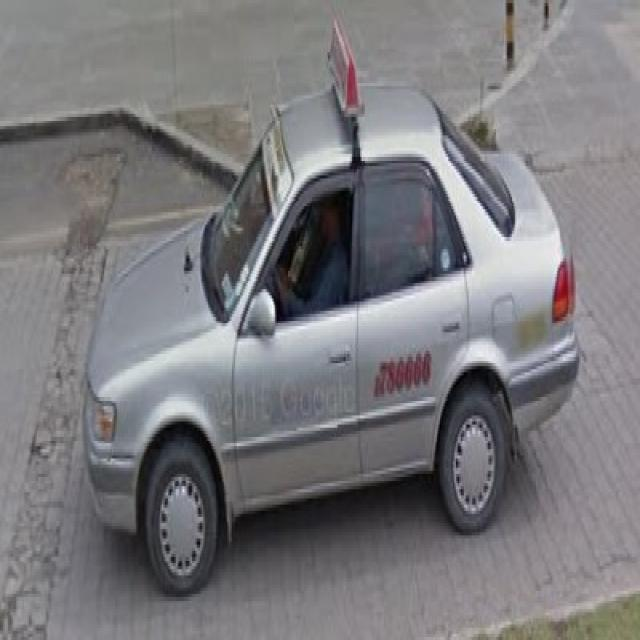cars: (73, 80, 593, 592)
